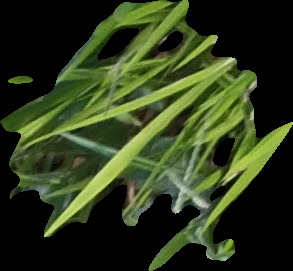grass: (1, 1, 292, 269)
